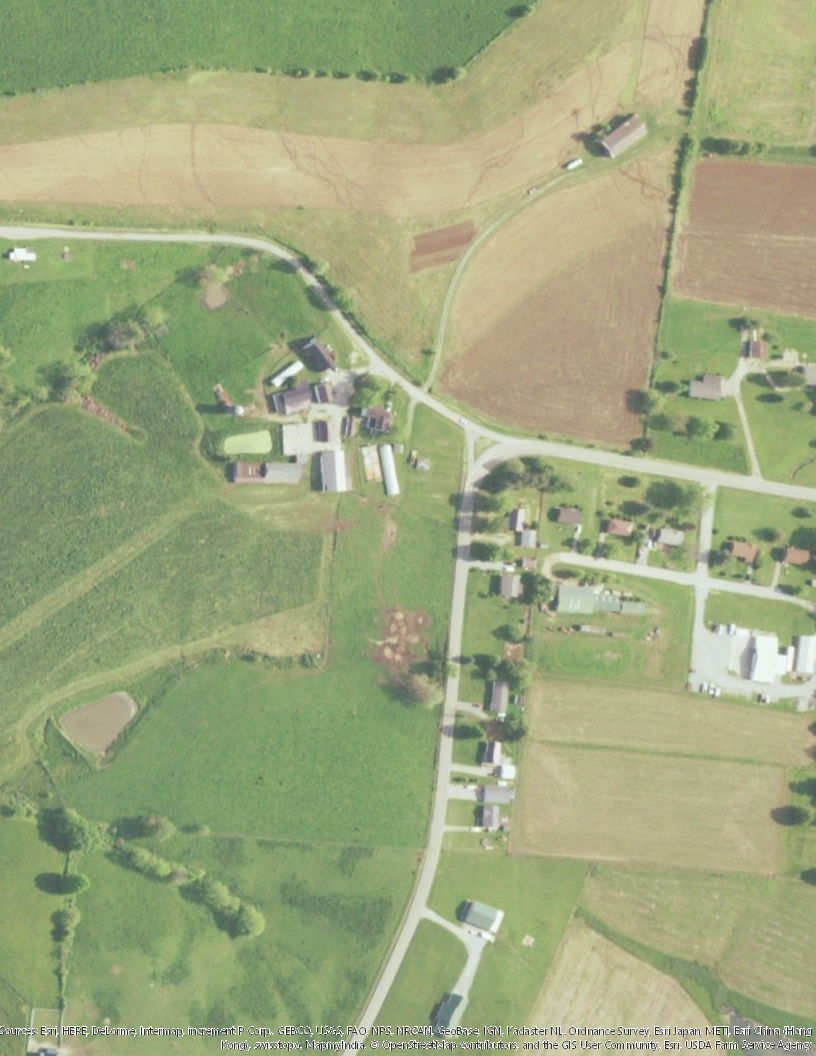cafo: (364, 436, 412, 496), (311, 441, 356, 495)
